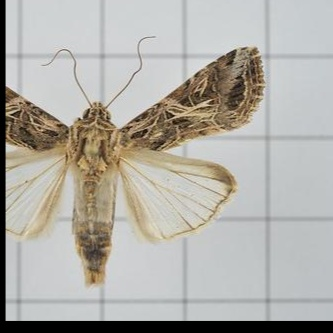Spodoptera litura: (6, 35, 266, 286)
